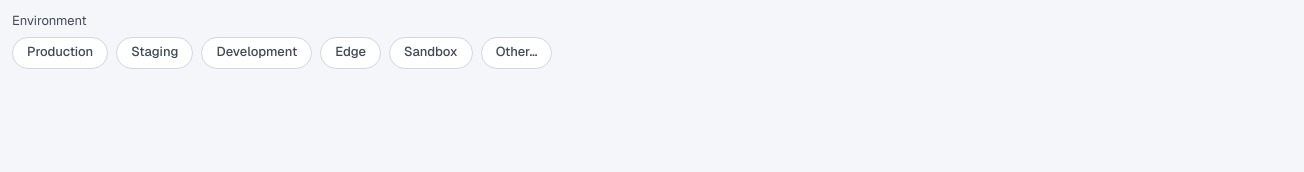
Test case: EnvironmentPicker › reveals a text input for a custom value
Click the radio button labelled "Other…": (516, 53) x1=481 y1=37 x2=552 y2=69
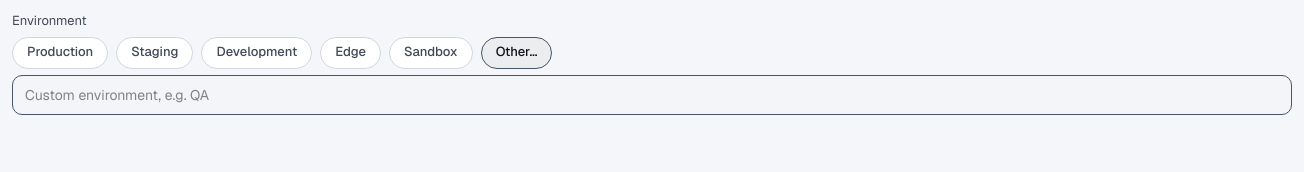
In the field labelled "Custom environment": (652, 95) x1=12 y1=75 x2=1292 y2=115, type "QA"
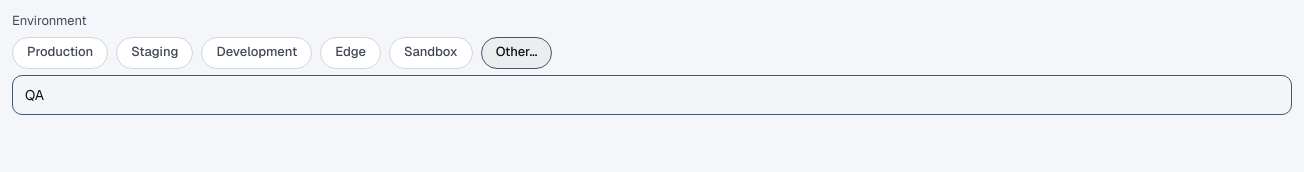
Click the radio button labelled "Staging": (155, 53) x1=116 y1=37 x2=193 y2=69
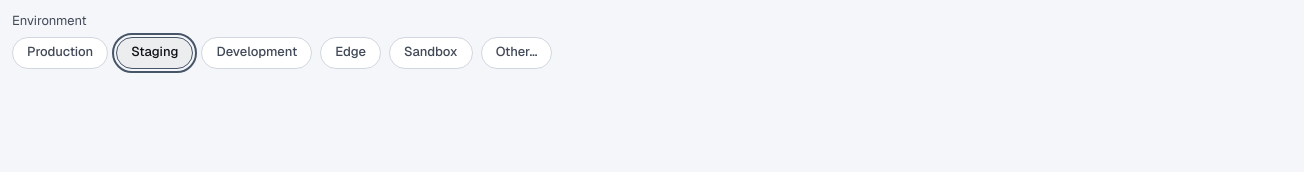
expect the field is gone: met
